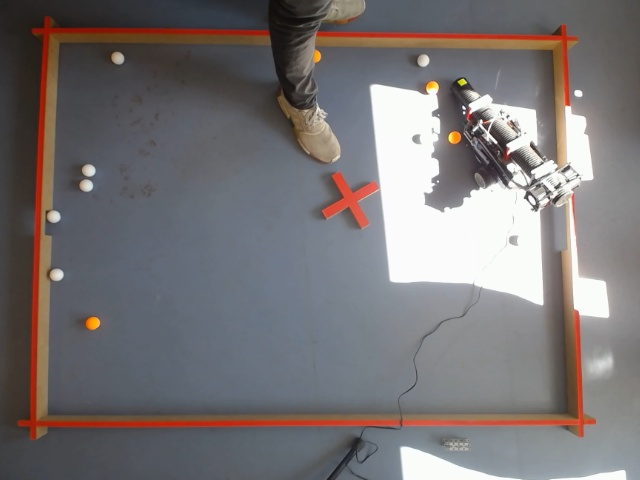orange: (81, 314, 103, 333), (448, 130, 461, 144), (426, 80, 438, 94), (313, 49, 320, 63)
white: (77, 161, 97, 189), (77, 166, 97, 194), (595, 469, 629, 480), (77, 176, 96, 195), (47, 266, 67, 284), (108, 49, 126, 68), (79, 161, 97, 180), (45, 208, 62, 225), (416, 53, 430, 68), (457, 77, 468, 86)
